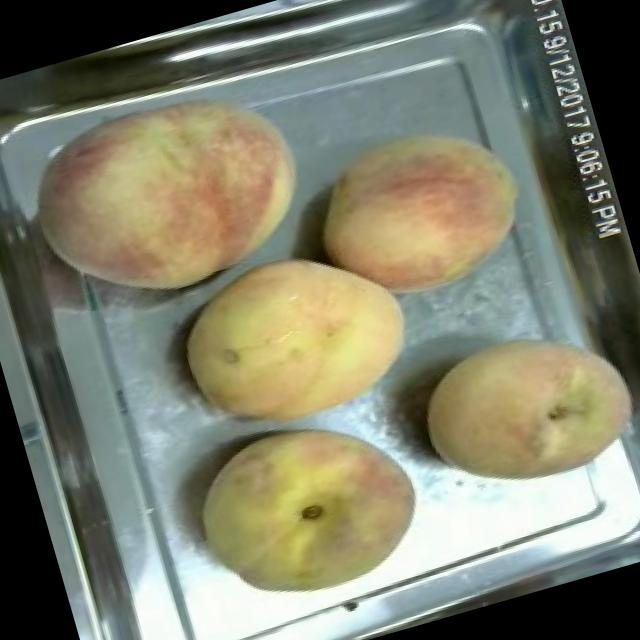Fruit: (0, 45, 335, 334), (172, 388, 444, 636), (155, 218, 433, 458), (289, 98, 550, 328), (396, 296, 640, 520)
